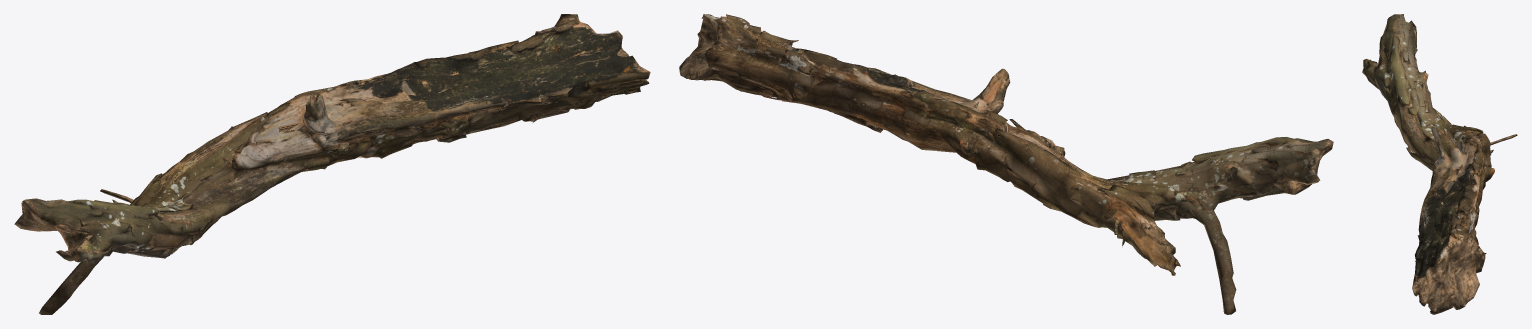
The model's file is dead_tree_trunk_02.glb.
3 renders of one model, left to right at view 1: azimuth 30°, elevation 25°; view 2: azimuth 150°, elevation 25°; view 3: azimuth 270°, elevation 25°, orthographic. The views are drawn at different scales.
Visible parts, largest first — view 1: dead_tree_trunk_02; view 2: dead_tree_trunk_02; view 3: dead_tree_trunk_02.
Part boxes in pixels (left/top/right/bottom): dead_tree_trunk_02: left=14, top=14, right=650, bottom=314; dead_tree_trunk_02: left=679, top=14, right=1333, bottom=314; dead_tree_trunk_02: left=1362, top=14, right=1517, bottom=314.
Size of the model in its own units: 4.05 by 1.05 by 1.05.
1 material, 1 textured.
